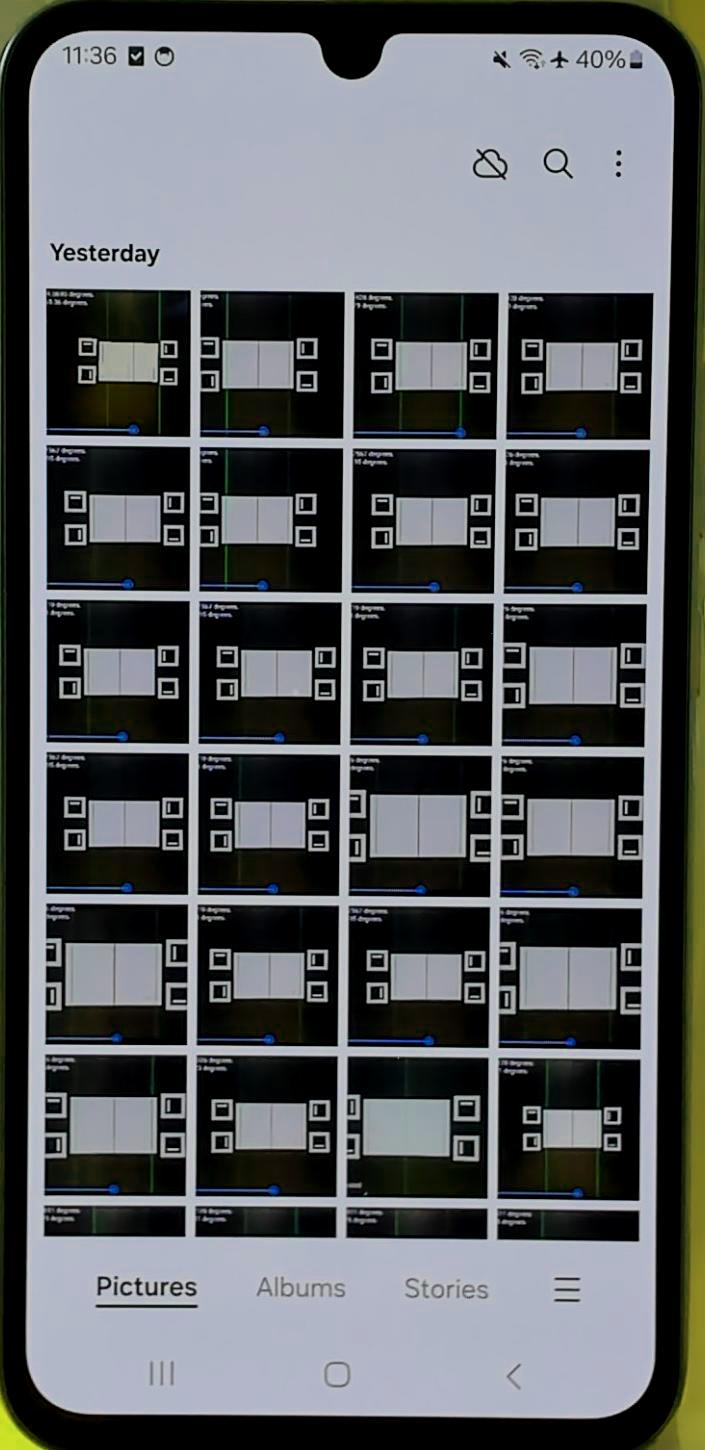CommunBotton: (78, 1268, 212, 1316), (450, 136, 518, 190), (534, 132, 590, 196)
menu: (540, 1260, 594, 1322), (606, 138, 634, 190)
